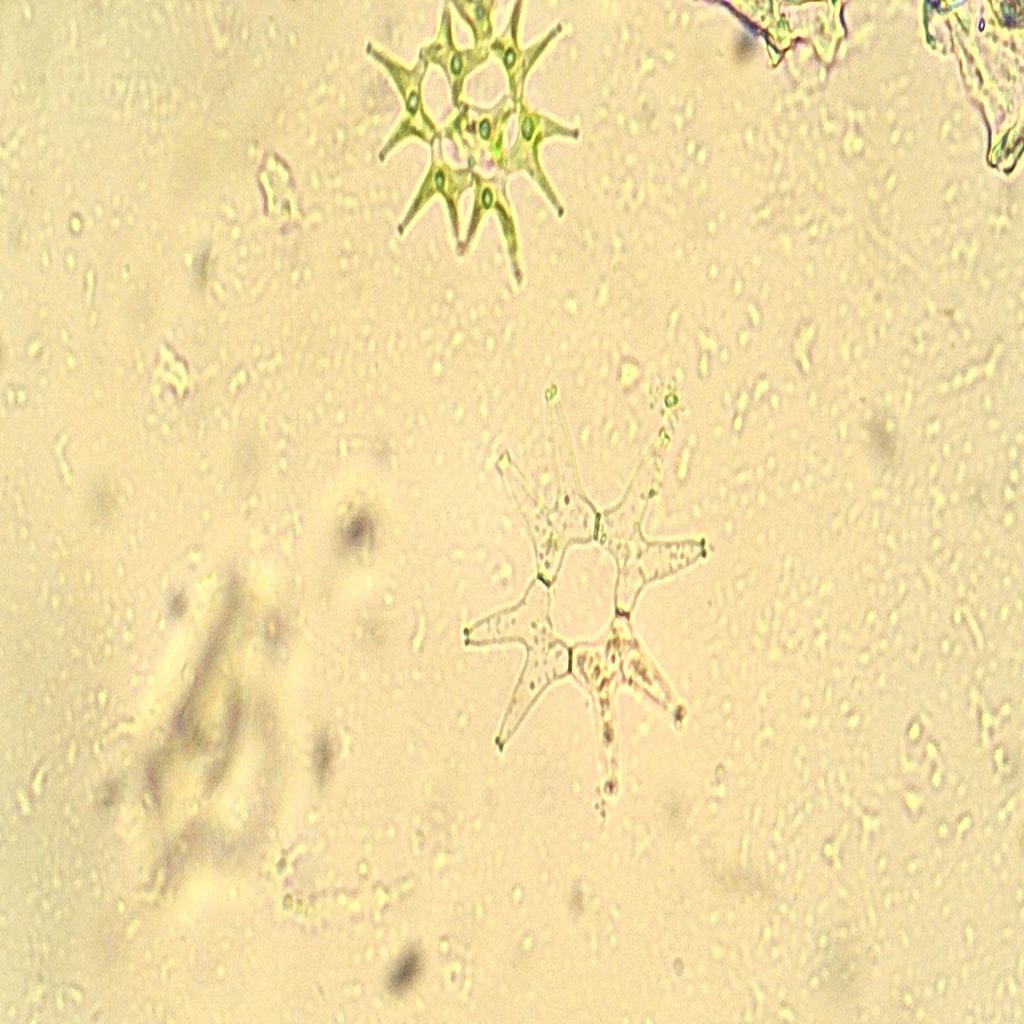Pediastrum_1F0: (438, 360, 744, 832)
